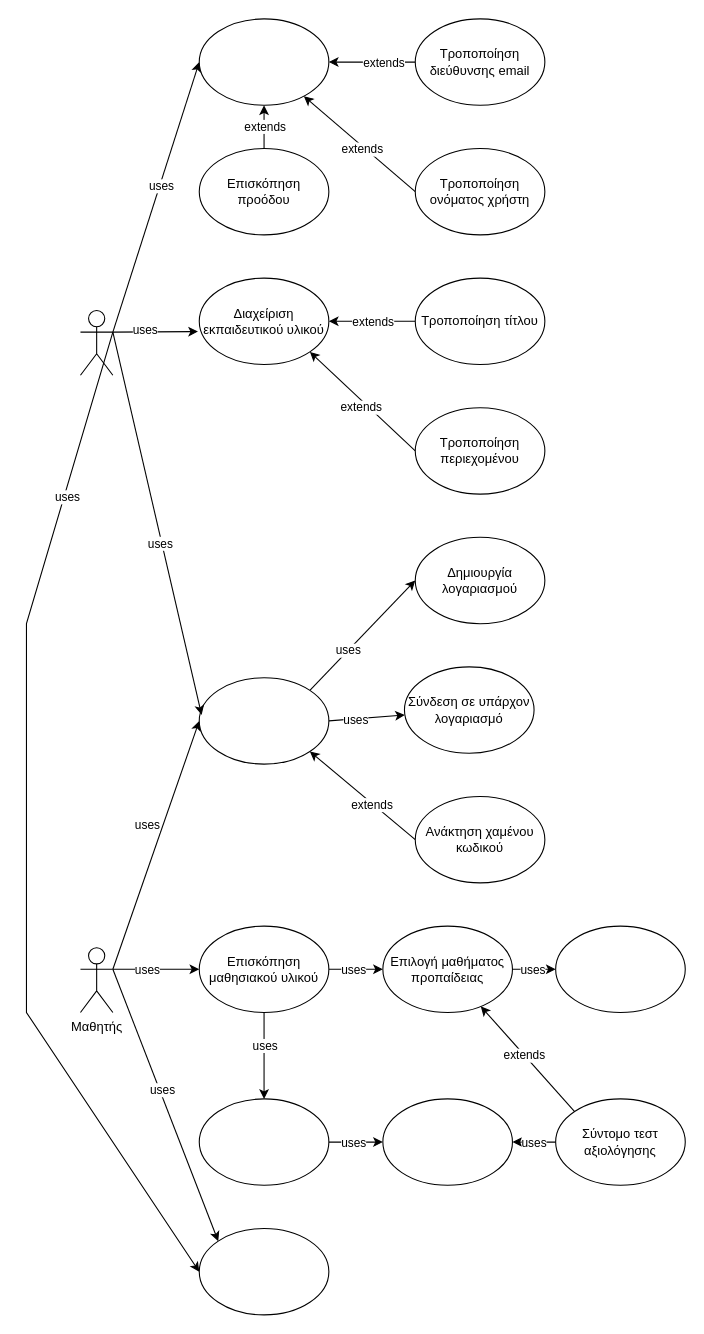
Image size: 704x1334. Some labels were removed from this diagram. The centre of each missing label's shape, as x and y in pixels:
"Αξιολόγηση επιδόσεων" goes at (x=447, y=1141).
"Αποσύνδεση" goes at (x=263, y=1271).
"Διαχείριση λογαριασμών" goes at (x=263, y=61).
"Διαχειριστής" goes at (x=96, y=342).
"Επισκόπηση ύλης" goes at (x=620, y=969).
"Σύστημα ταυτοποίησης" goes at (x=263, y=720).
"Τεστ αξιολόγησης" goes at (x=263, y=1141).
